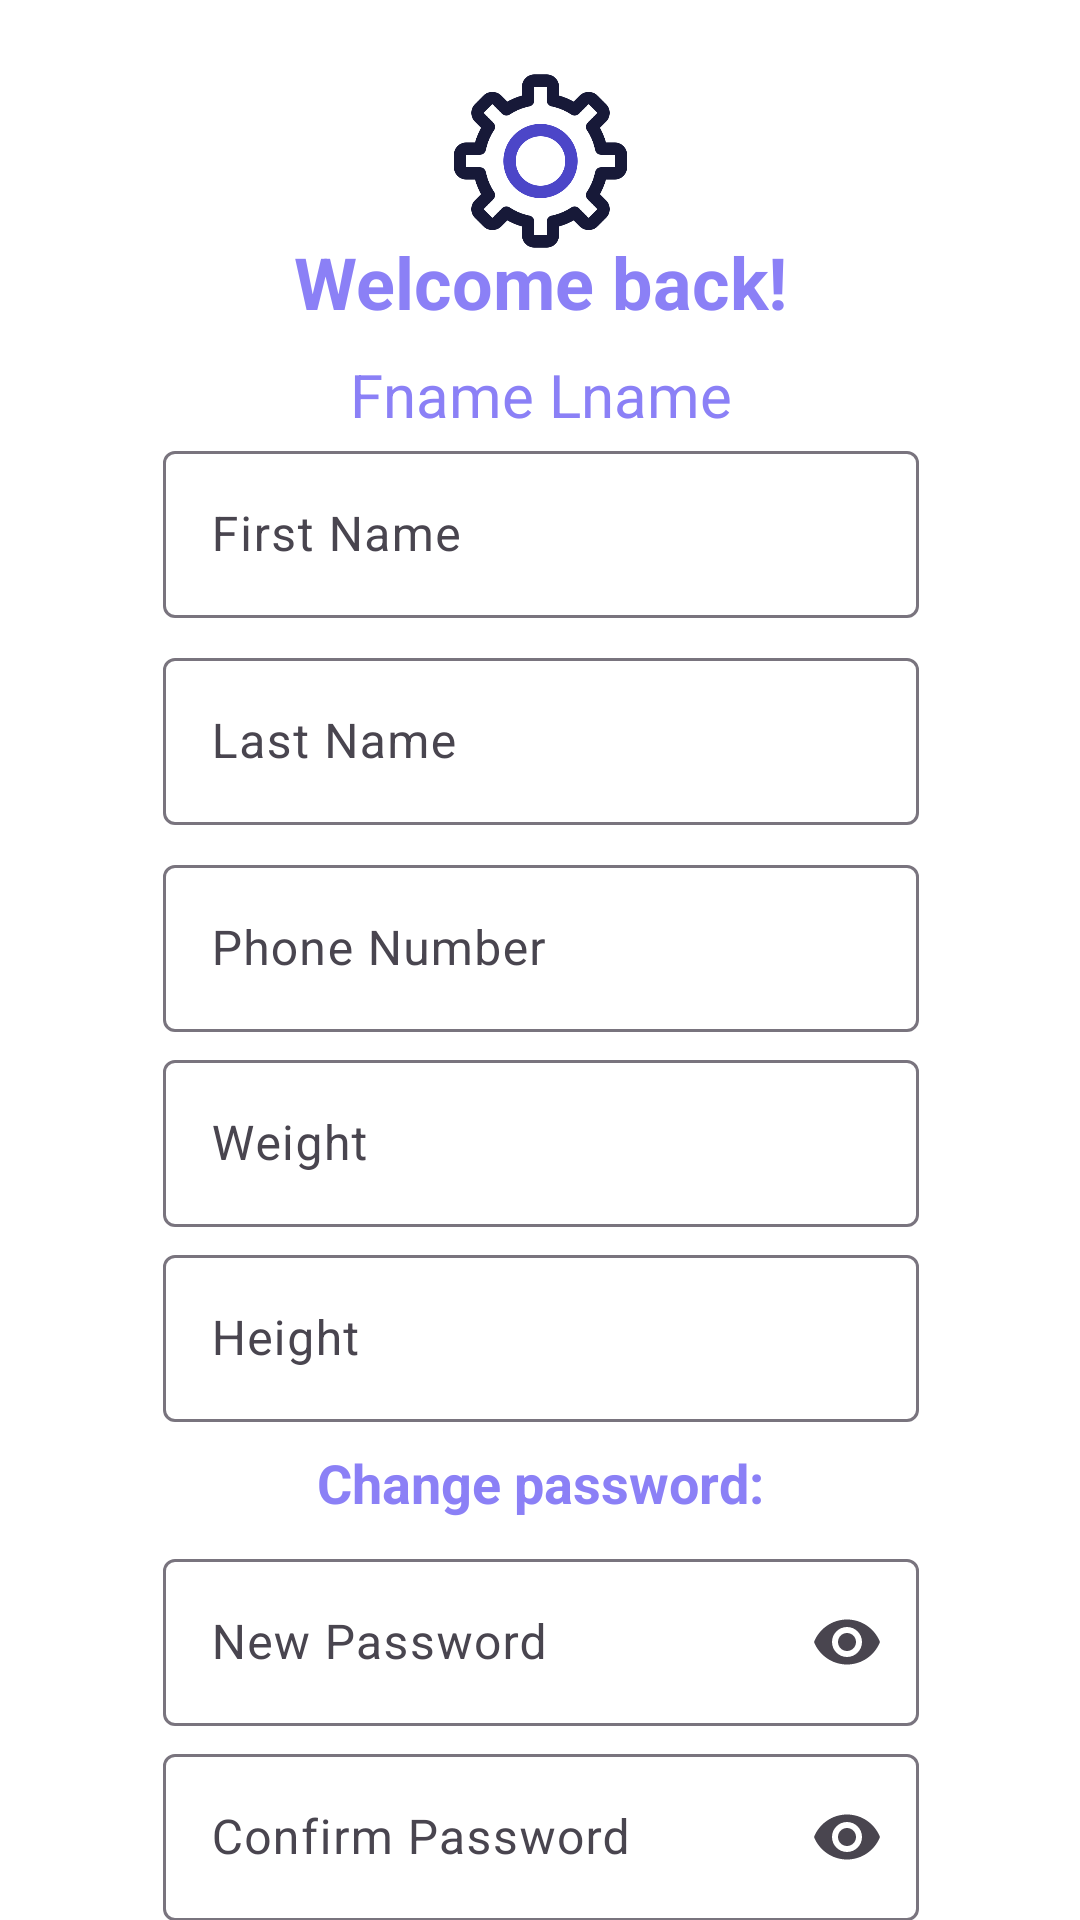

Icons on this 1080×1920 Android screen, each with its box as box(x1, y1, x2, y2):
setting: box(454, 74, 627, 248)
